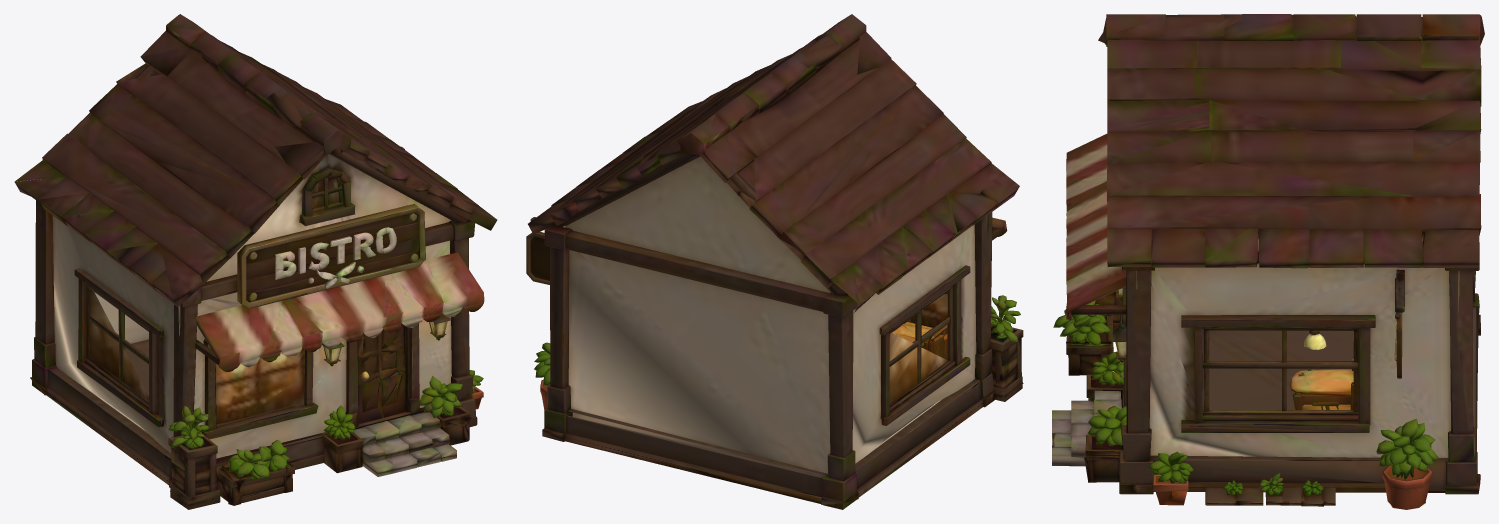
Rendered from bistro.glb.
3 renders of one model, left to right at view 1: azimuth 30°, elevation 25°; view 2: azimuth 150°, elevation 25°; view 3: azimuth 270°, elevation 25°, orthographic. The views are drawn at different scales.
Visible parts, largest first — view 1: geometry_0; view 2: geometry_0; view 3: geometry_0.
Boxes of the visible parts, x1,y1,x2,y2 form: geometry_0: (14, 14, 497, 509); geometry_0: (526, 14, 1023, 509); geometry_0: (1052, 14, 1484, 509).
Size of the model in its own units: 0.9551 by 0.8501 by 0.8389.
Materials: 1 (1 with a texture image).
